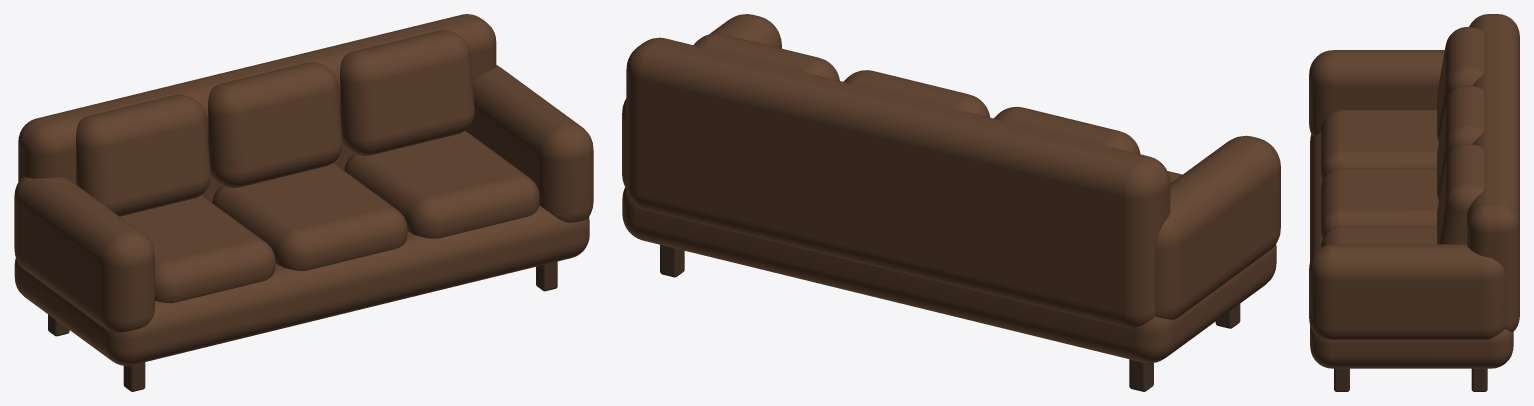
File: sofa_no_pillows_chocolate_brown.glb
The picture shows the model from 3 angles, left to right: view 1: azimuth 30°, elevation 25°; view 2: azimuth 150°, elevation 25°; view 3: azimuth 270°, elevation 25°; orthographic projection. The views are drawn at different scales.
Visible parts, largest first — view 1: Upholstered foundation, Rounded padded arm, Plush back cushion.002, Plush back cushion.001, Plush back cushion, Seat cushion.002, Seat cushion.001, Rounded padded arm.001, Padded back frame, Seat cushion, Walnut foot, Walnut foot.002; view 2: Padded back frame, Upholstered foundation, Rounded padded arm, Plush back cushion.001, Plush back cushion.002, Plush back cushion, Rounded padded arm.001, Walnut foot.001, Walnut foot.003; view 3: Rounded padded arm.001, Padded back frame, Rounded padded arm, Upholstered foundation, Seat cushion, Seat cushion.001, Plush back cushion.002, Plush back cushion.001, Plush back cushion, Seat cushion.002, Walnut foot.003, Walnut foot.002.
Boxes of the visible parts, x1,y1,x2,y2 form: Upholstered foundation: (14, 205, 589, 365); Rounded padded arm: (14, 177, 154, 332); Plush back cushion.002: (340, 30, 474, 155); Plush back cushion.001: (208, 62, 342, 187); Plush back cushion: (76, 94, 210, 216); Seat cushion.002: (344, 131, 539, 238); Seat cushion.001: (212, 163, 407, 270); Rounded padded arm.001: (466, 65, 593, 222); Padded back frame: (18, 14, 496, 202); Seat cushion: (120, 195, 275, 303); Walnut foot: (123, 362, 145, 391); Walnut foot.002: (536, 261, 557, 291); Padded back frame: (626, 37, 1170, 328); Upholstered foundation: (622, 187, 1276, 363); Rounded padded arm: (1155, 135, 1280, 319); Plush back cushion.001: (843, 70, 990, 117); Plush back cushion.002: (693, 33, 839, 80); Plush back cushion: (994, 106, 1140, 154); Rounded padded arm.001: (622, 14, 781, 187); Walnut foot.001: (1129, 359, 1153, 391); Walnut foot.003: (660, 245, 684, 277); Rounded padded arm.001: (1309, 244, 1505, 339); Padded back frame: (1467, 14, 1519, 331); Rounded padded arm: (1309, 50, 1444, 135); Upholstered foundation: (1310, 133, 1513, 368); Seat cushion: (1320, 110, 1438, 181); Seat cushion.001: (1320, 168, 1438, 239); Plush back cushion.002: (1437, 144, 1484, 244); Plush back cushion.001: (1437, 85, 1484, 200); Plush back cushion: (1437, 27, 1484, 142); Seat cushion.002: (1320, 227, 1436, 247); Walnut foot.003: (1471, 368, 1487, 391); Walnut foot.002: (1334, 368, 1349, 391).
Bounding box in the file's own units: 2.42 × 0.9999 × 0.995.
